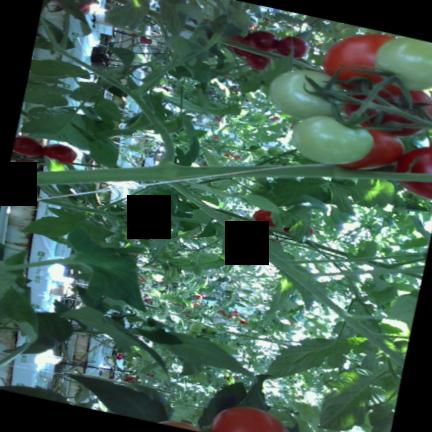6kp_petiole: (120, 167, 233, 230), (120, 116, 219, 181), (288, 165, 432, 182), (304, 240, 329, 259)
MainStem: (3, 163, 335, 189), (216, 208, 346, 257)
tomato: (343, 83, 432, 137), (292, 116, 373, 164), (322, 34, 392, 82), (269, 70, 332, 119), (375, 37, 432, 90), (337, 130, 403, 169), (210, 407, 288, 432), (396, 147, 432, 199), (276, 36, 309, 58), (245, 31, 278, 52), (43, 144, 76, 164), (12, 136, 42, 157), (160, 421, 203, 432), (10, 152, 44, 164), (246, 53, 270, 70), (253, 210, 275, 227), (231, 47, 250, 57), (202, 326, 218, 336), (228, 35, 245, 43), (190, 323, 204, 332), (228, 341, 240, 349), (140, 37, 151, 44)
